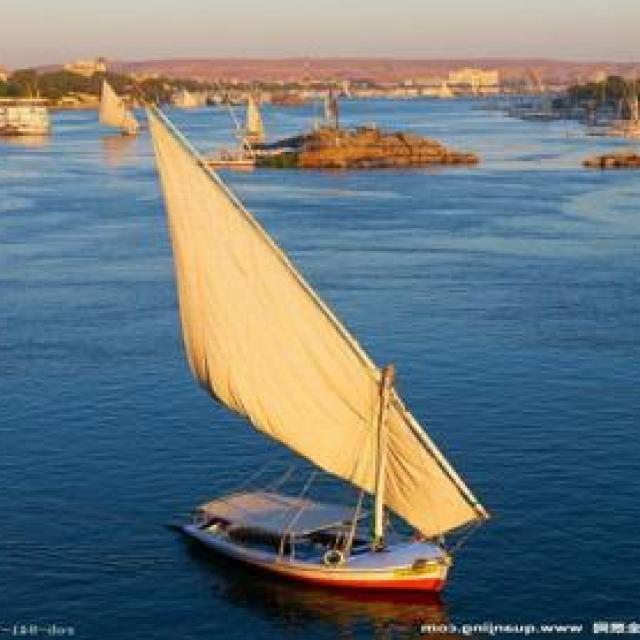sailboat: (152, 81, 483, 590), (91, 77, 150, 143), (232, 88, 274, 152)
